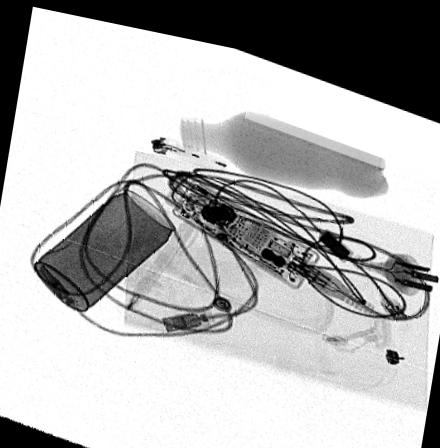Lighter: (150, 128, 231, 167)
